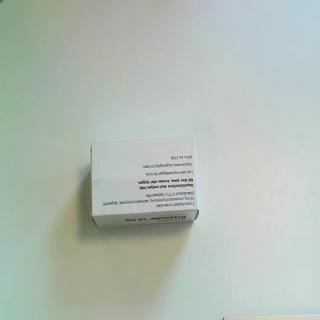oxycontin10mg: (90, 135, 202, 230)
